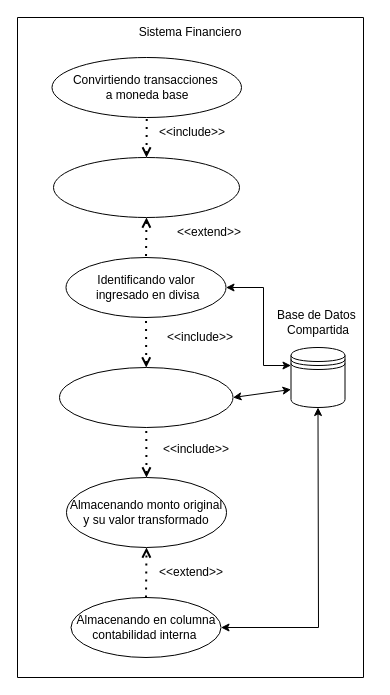
The diagram is 390 pixels wide and 695 high, and some of its shapes have lost their labels. Here are the shapes that lost their labels. From the top down, the centre of each, then its label:
the point at 146,187: Interactuando con botón "Guardar Nota de Venta"
the point at 145,397: Multiplicando por valor en campo "Tipo de Cambio"
